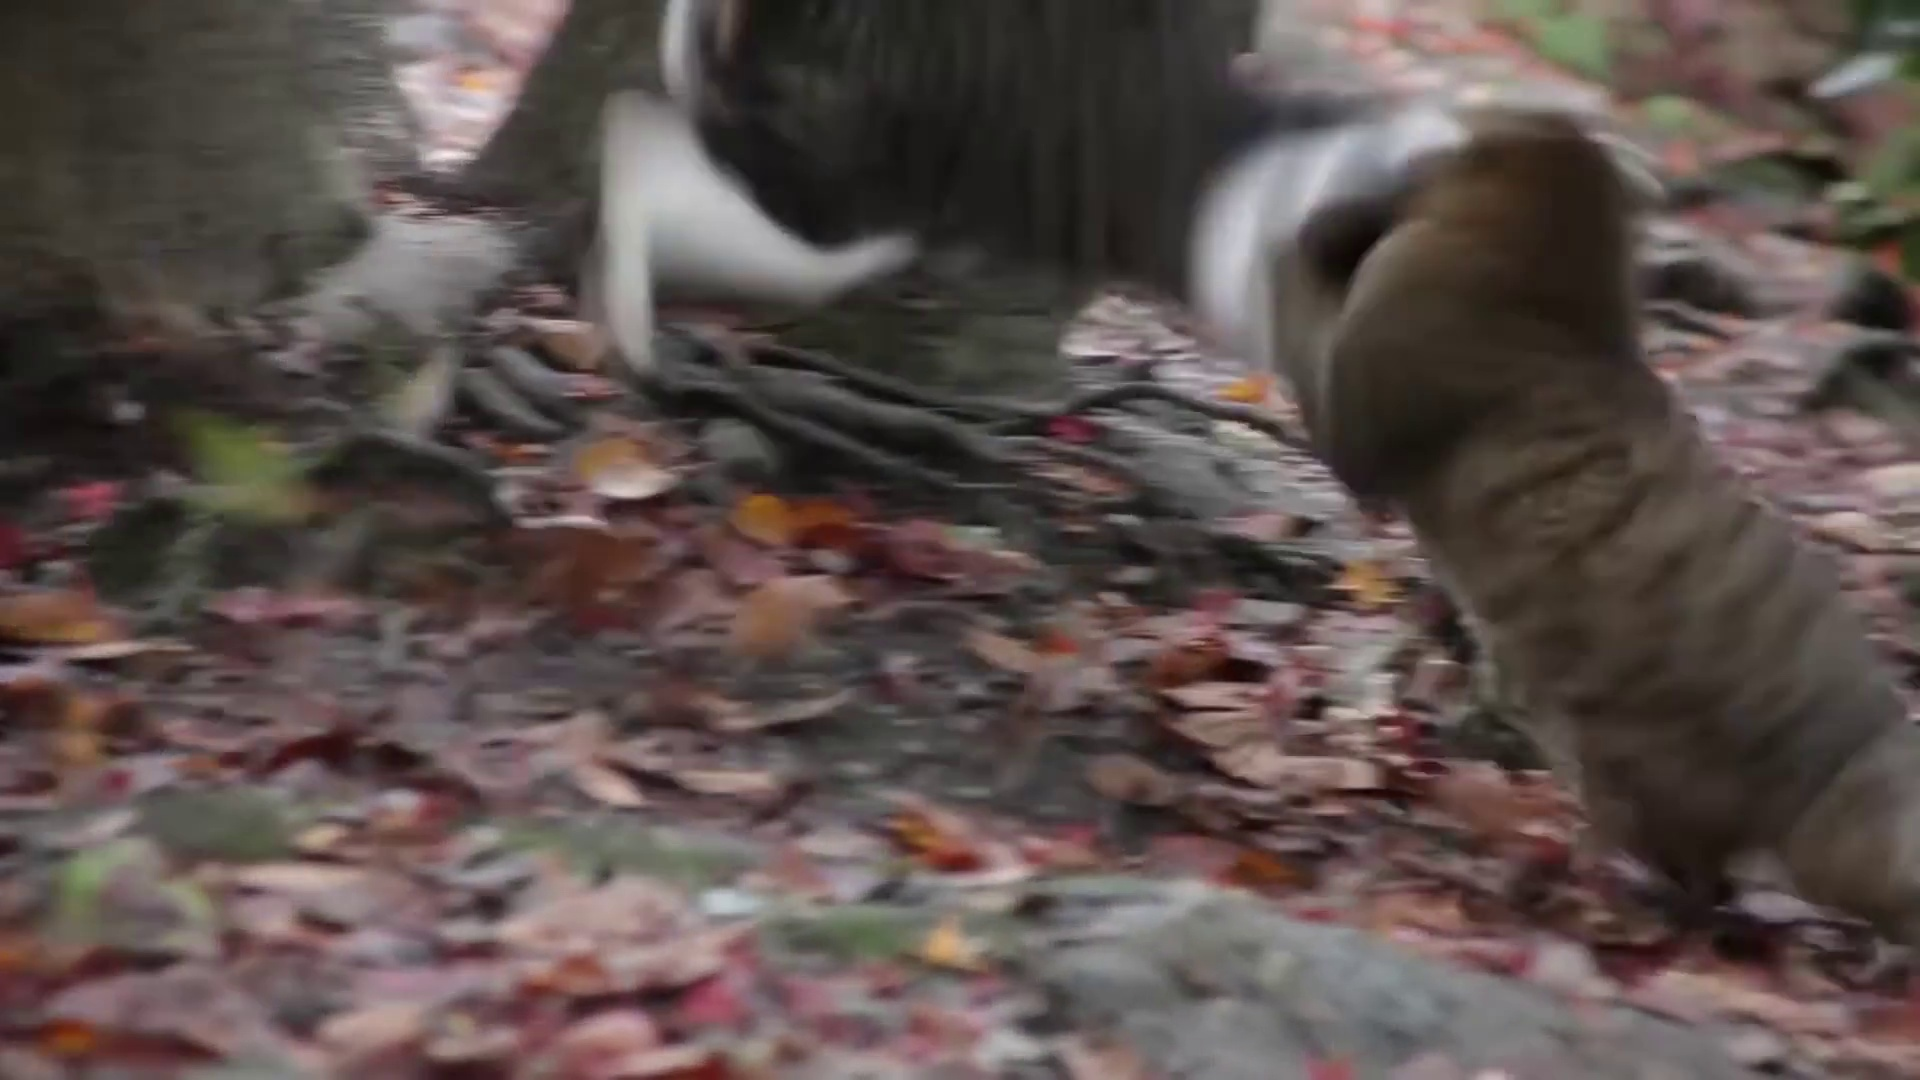black-white: (597, 1, 1470, 371)
pure black: (1296, 112, 1920, 943)
